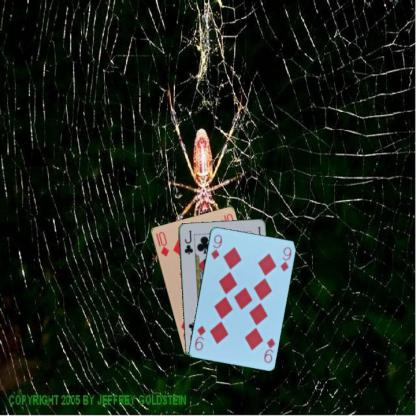10d: (155, 228, 170, 258)
9d: (261, 335, 276, 364), (208, 232, 223, 260)
Jc: (182, 228, 194, 255)
